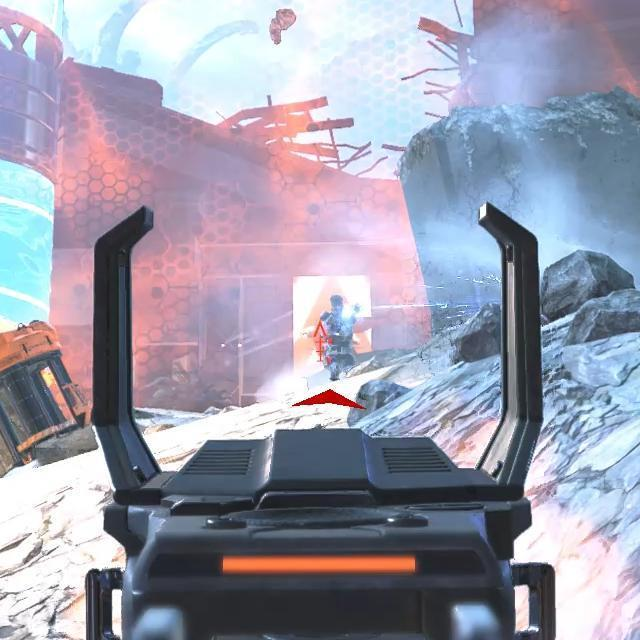avatar: (319, 293, 360, 382)
